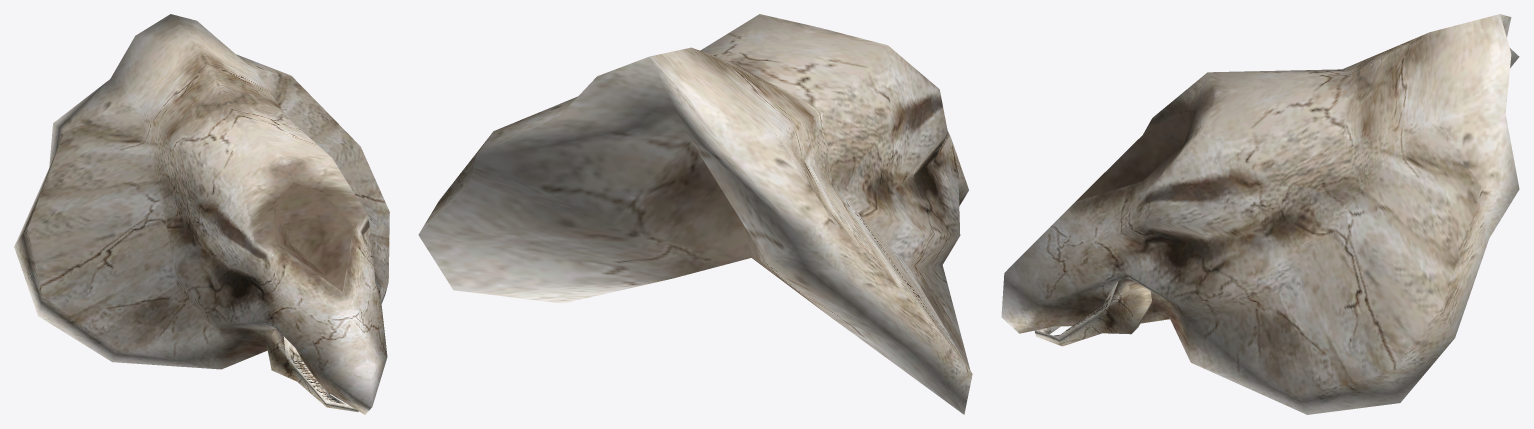
The model's file is thm_dant_thune_skull_l2.fbx.
The picture shows the model from 3 angles, left to right: view 1: azimuth 30°, elevation 25°; view 2: azimuth 150°, elevation 25°; view 3: azimuth 270°, elevation 25°; orthographic projection. The views are drawn at different scales.
Parts seen in each view (by area): view 1: mesh_node; view 2: mesh_node; view 3: mesh_node.
Boxes of the visible parts, left/top/right/bottom form: mesh_node: left=14, top=14, right=389, bottom=414; mesh_node: left=418, top=14, right=972, bottom=414; mesh_node: left=1001, top=14, right=1519, bottom=414.
Size of the model in its own units: 1.84 by 1.32 by 1.92.
1 material, 1 textured.
